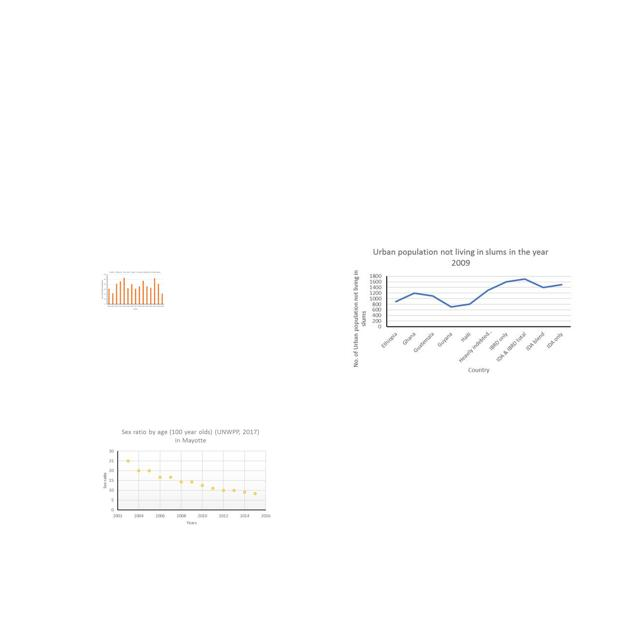Graph: (347, 244, 575, 376), (97, 426, 273, 530), (99, 270, 165, 310)
